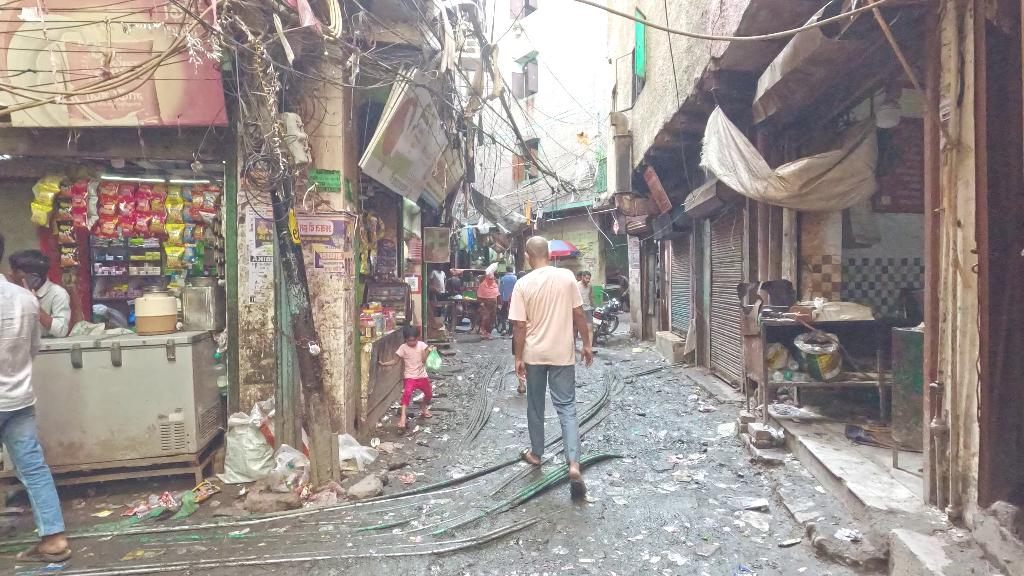garbage: (263, 440, 311, 495), (338, 432, 378, 471), (191, 479, 219, 503), (424, 346, 443, 374), (156, 490, 176, 509), (717, 421, 737, 437)
